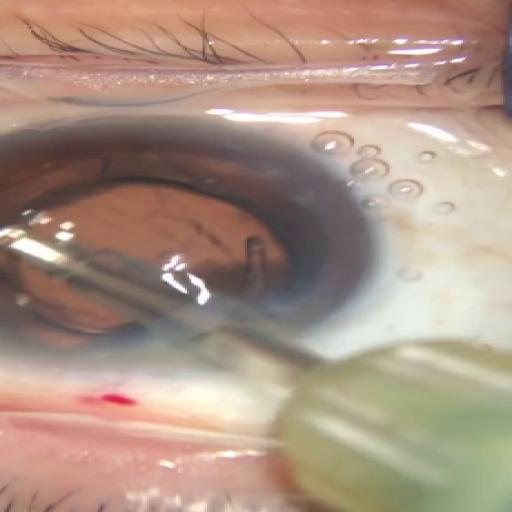catarata: (0, 112, 378, 377)
cornea: (0, 173, 304, 349)
